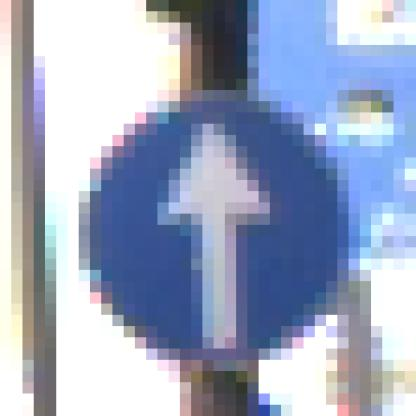AheadOnly: (69, 69, 350, 350)
